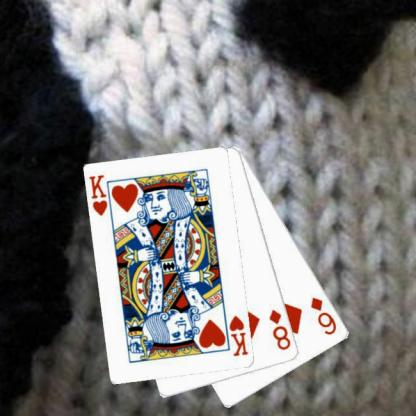6D: (308, 294, 338, 336)
8D: (266, 307, 292, 352)
KH: (226, 313, 249, 358), (87, 172, 109, 218)
